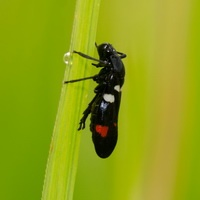insect: (64, 43, 125, 157)
